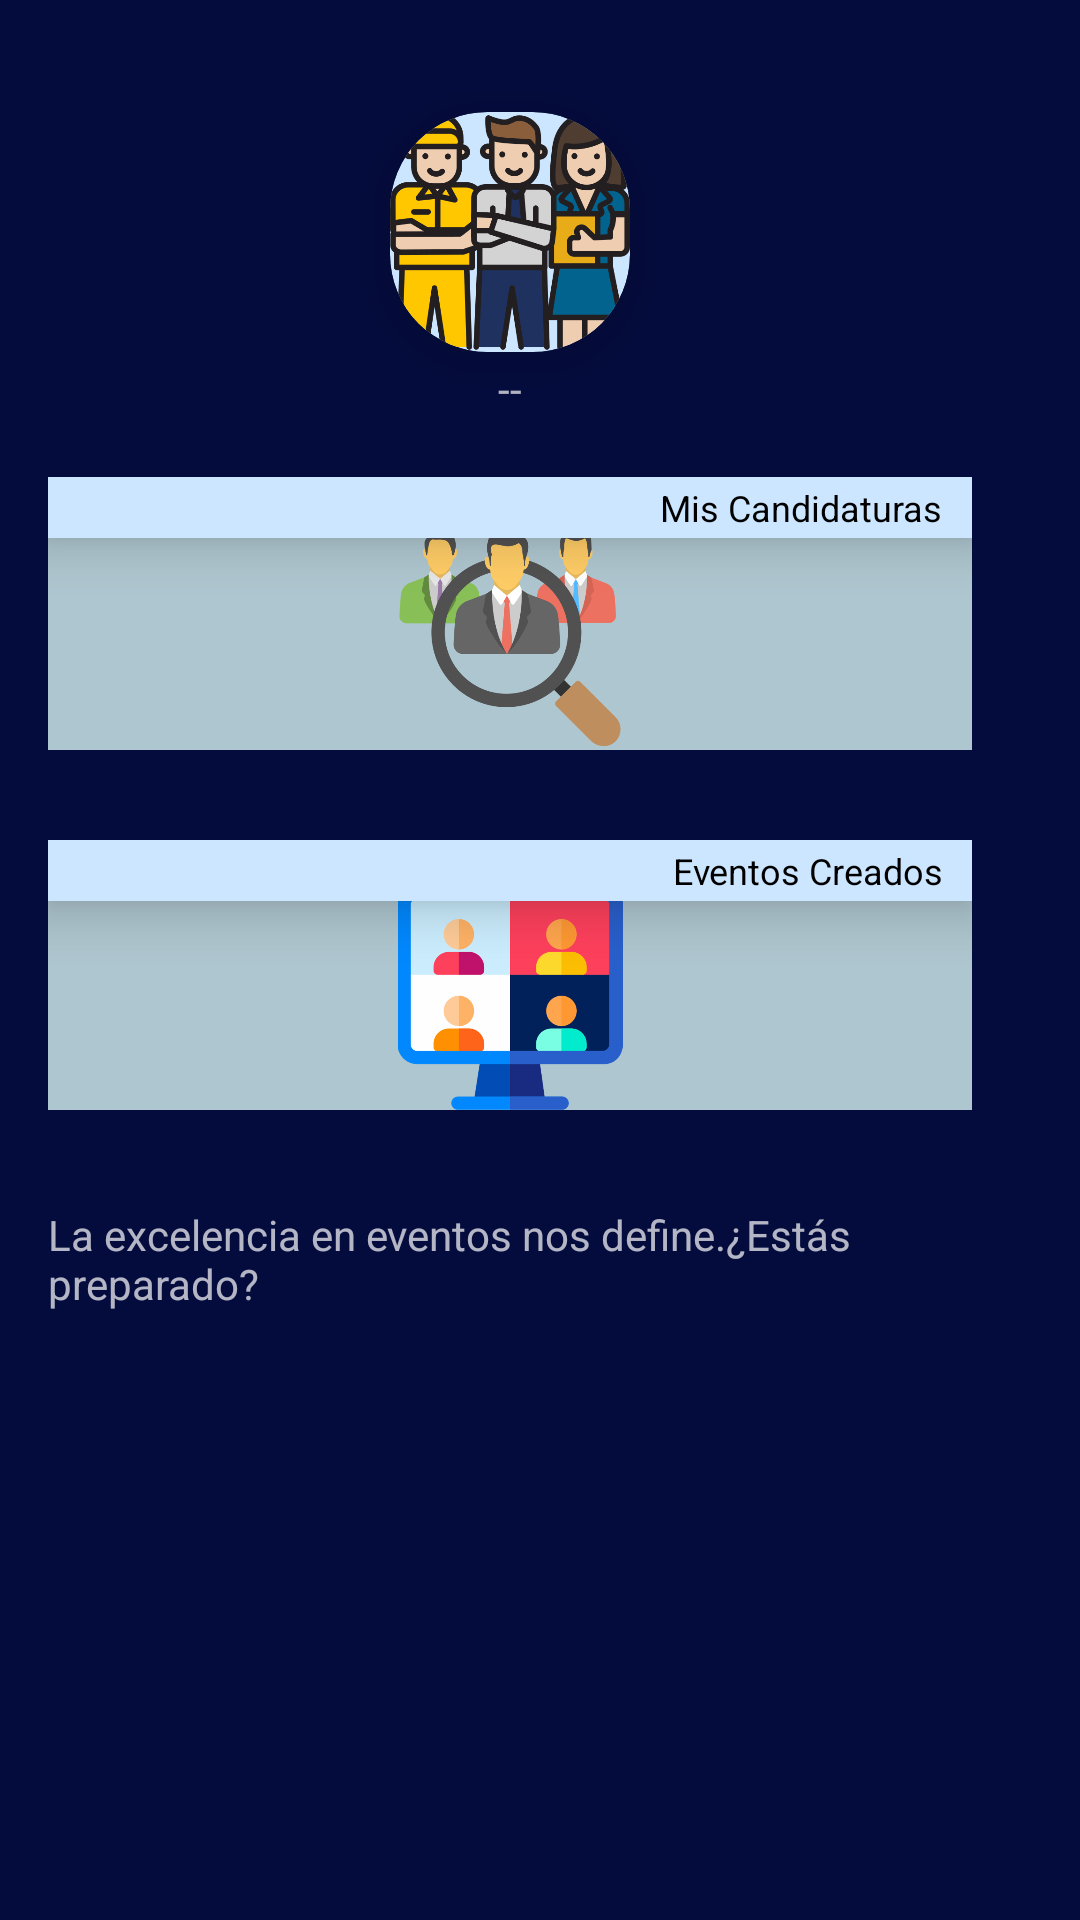

Locate icon controls on the screen. Image size 1080×1920, boxes as (x1, y1, x2, y2).
employees: (390, 112, 630, 352)
